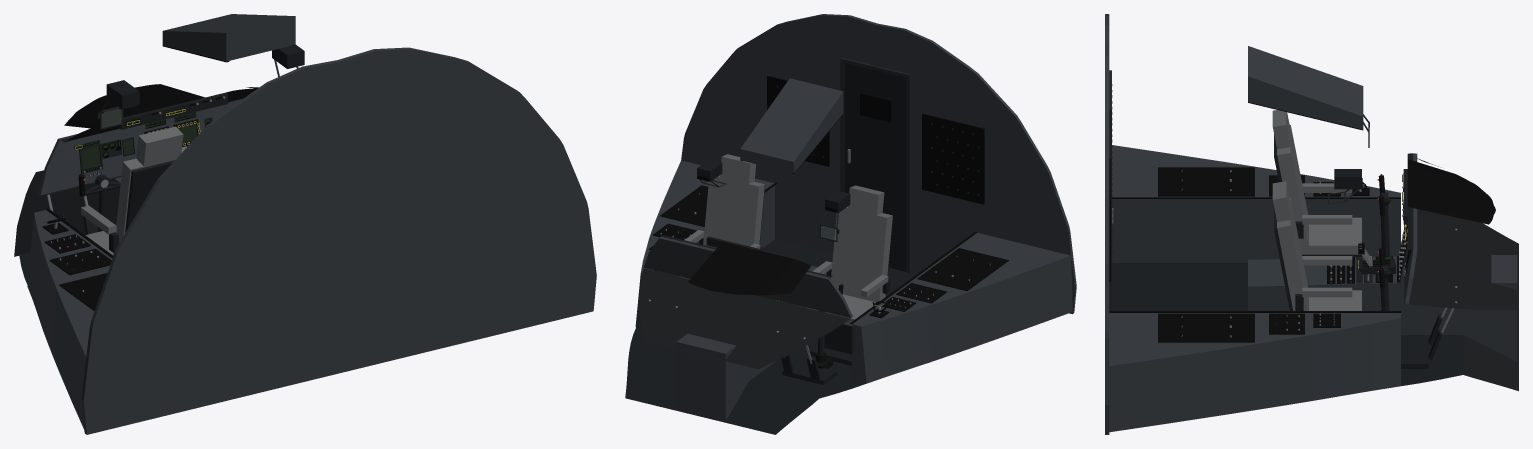
File: cockpit_c130.glb
3 views of the same model, side by side, from view 1: azimuth 30°, elevation 25°; view 2: azimuth 150°, elevation 25°; view 3: azimuth 270°, elevation 25° (orthographic). The views are drawn at different scales.
Parts seen in each view (by area): view 1: panel_grey.003, panel_grey.001, panel_grey.006, panel_grey.004, black.005, dark.003, fabric.002, dark.066, dark.382, fabric.001, black.136, black.138 (+4 smaller); view 2: panel_grey.003, panel_grey.001, dark.002, dark.004, panel_grey.006, dark.001, panel_grey, black.003, fabric.001, dark, black.005, panel_grey.004 (+14 smaller); view 3: panel_grey.002, panel_grey.001, dark, dark.002, panel_grey.006, panel_grey, panel_grey.005, black.005, black.138, black.139, panel_grey.003, dark.001 (+16 smaller).
Boxes of the visible parts, <box> form: panel_grey.003: <box>81,47,596,434</box>; panel_grey.001: <box>27,210,112,429</box>; panel_grey.006: <box>162,14,295,61</box>; panel_grey.004: <box>38,98,242,195</box>; black.005: <box>64,84,258,128</box>; dark.003: <box>14,173,80,256</box>; fabric.002: <box>136,126,183,166</box>; dark.066: <box>119,92,228,129</box>; dark.382: <box>125,160,174,232</box>; fabric.001: <box>113,146,187,255</box>; black.136: <box>49,248,111,275</box>; black.138: <box>59,273,107,311</box>; panel_grey.003: <box>681,14,1076,314</box>; panel_grey.001: <box>852,233,1072,383</box>; dark.002: <box>639,268,850,369</box>; dark.004: <box>844,62,906,271</box>; panel_grey.006: <box>740,78,843,173</box>; dark.001: <box>625,352,818,434</box>; panel_grey: <box>676,333,775,421</box>; black.003: <box>922,113,984,204</box>; fabric.001: <box>831,206,892,302</box>; dark: <box>629,239,916,398</box>; black.005: <box>688,241,811,295</box>; panel_grey.004: <box>644,236,852,318</box>; panel_grey.002: <box>1109,313,1400,432</box>; panel_grey.001: <box>1112,145,1400,262</box>; dark: <box>1112,263,1463,385</box>; dark.002: <box>1409,209,1518,309</box>; panel_grey.006: <box>1248,46,1363,129</box>; panel_grey: <box>1400,255,1517,361</box>; panel_grey.005: <box>1248,256,1400,310</box>; black.005: <box>1407,158,1495,224</box>; black.138: <box>1158,167,1254,196</box>; black.139: <box>1158,313,1254,342</box>; panel_grey.003: <box>1105,14,1109,434</box>; dark.001: <box>1463,310,1518,391</box>.
Bounding box in the file's own units: 3.85 × 2.45 × 2.98.
Materials: 25 (6 with a texture image).
